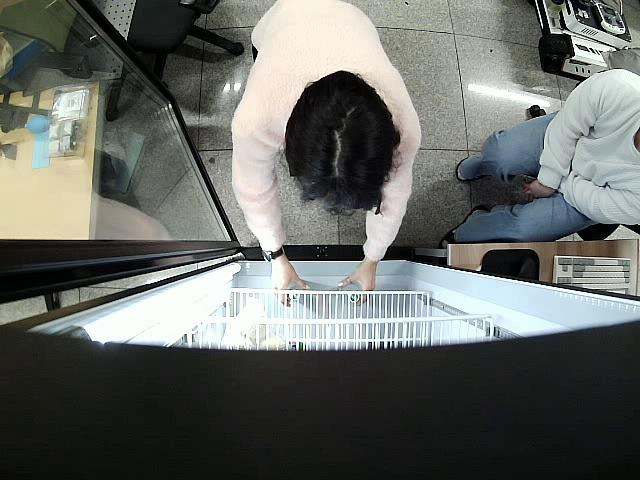00_hand: (269, 267, 311, 309), (337, 267, 377, 305)
18_trevi: (342, 287, 361, 305), (287, 285, 304, 304)
